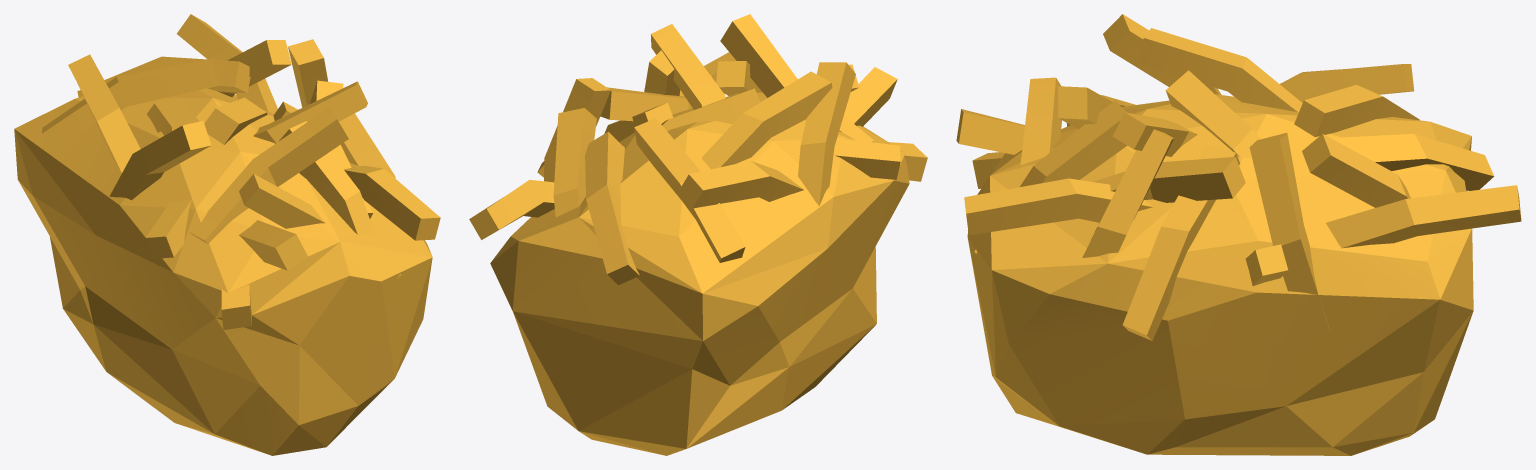
Rendered from SM_Prop_Deep_Fryer_Fries_01.obj.
3 views of the same model, side by side, from view 1: azimuth 30°, elevation 25°; view 2: azimuth 150°, elevation 25°; view 3: azimuth 270°, elevation 25° (orthographic). The views are drawn at different scales.
Parts seen in each view (by area): view 1: SM_Prop_Deep_Fryer_Fries_01_0; view 2: SM_Prop_Deep_Fryer_Fries_01_0; view 3: SM_Prop_Deep_Fryer_Fries_01_0.
Part boxes in pixels (box(x1,y1,x2,y2)): SM_Prop_Deep_Fryer_Fries_01_0: box(14, 14, 440, 455); SM_Prop_Deep_Fryer_Fries_01_0: box(469, 14, 927, 455); SM_Prop_Deep_Fryer_Fries_01_0: box(956, 14, 1521, 455).
Size of the model in its own units: 0.3887 by 0.397 by 0.5758.
1 material, 1 textured.
